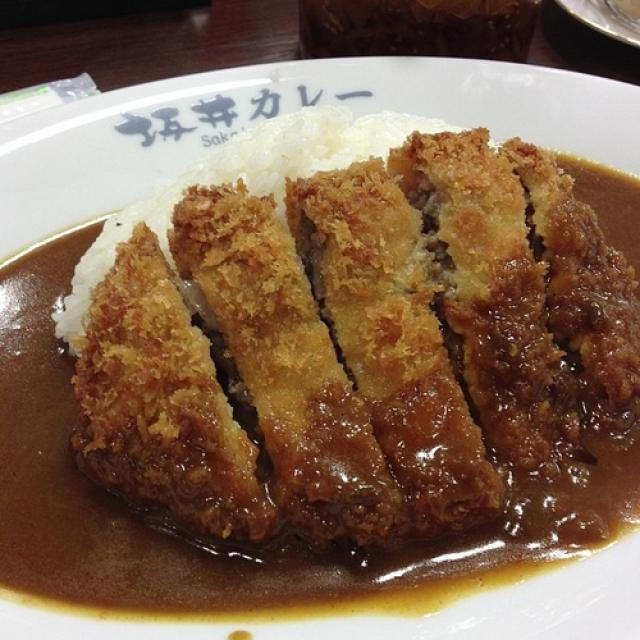炸货点心: (13, 39, 631, 628)
